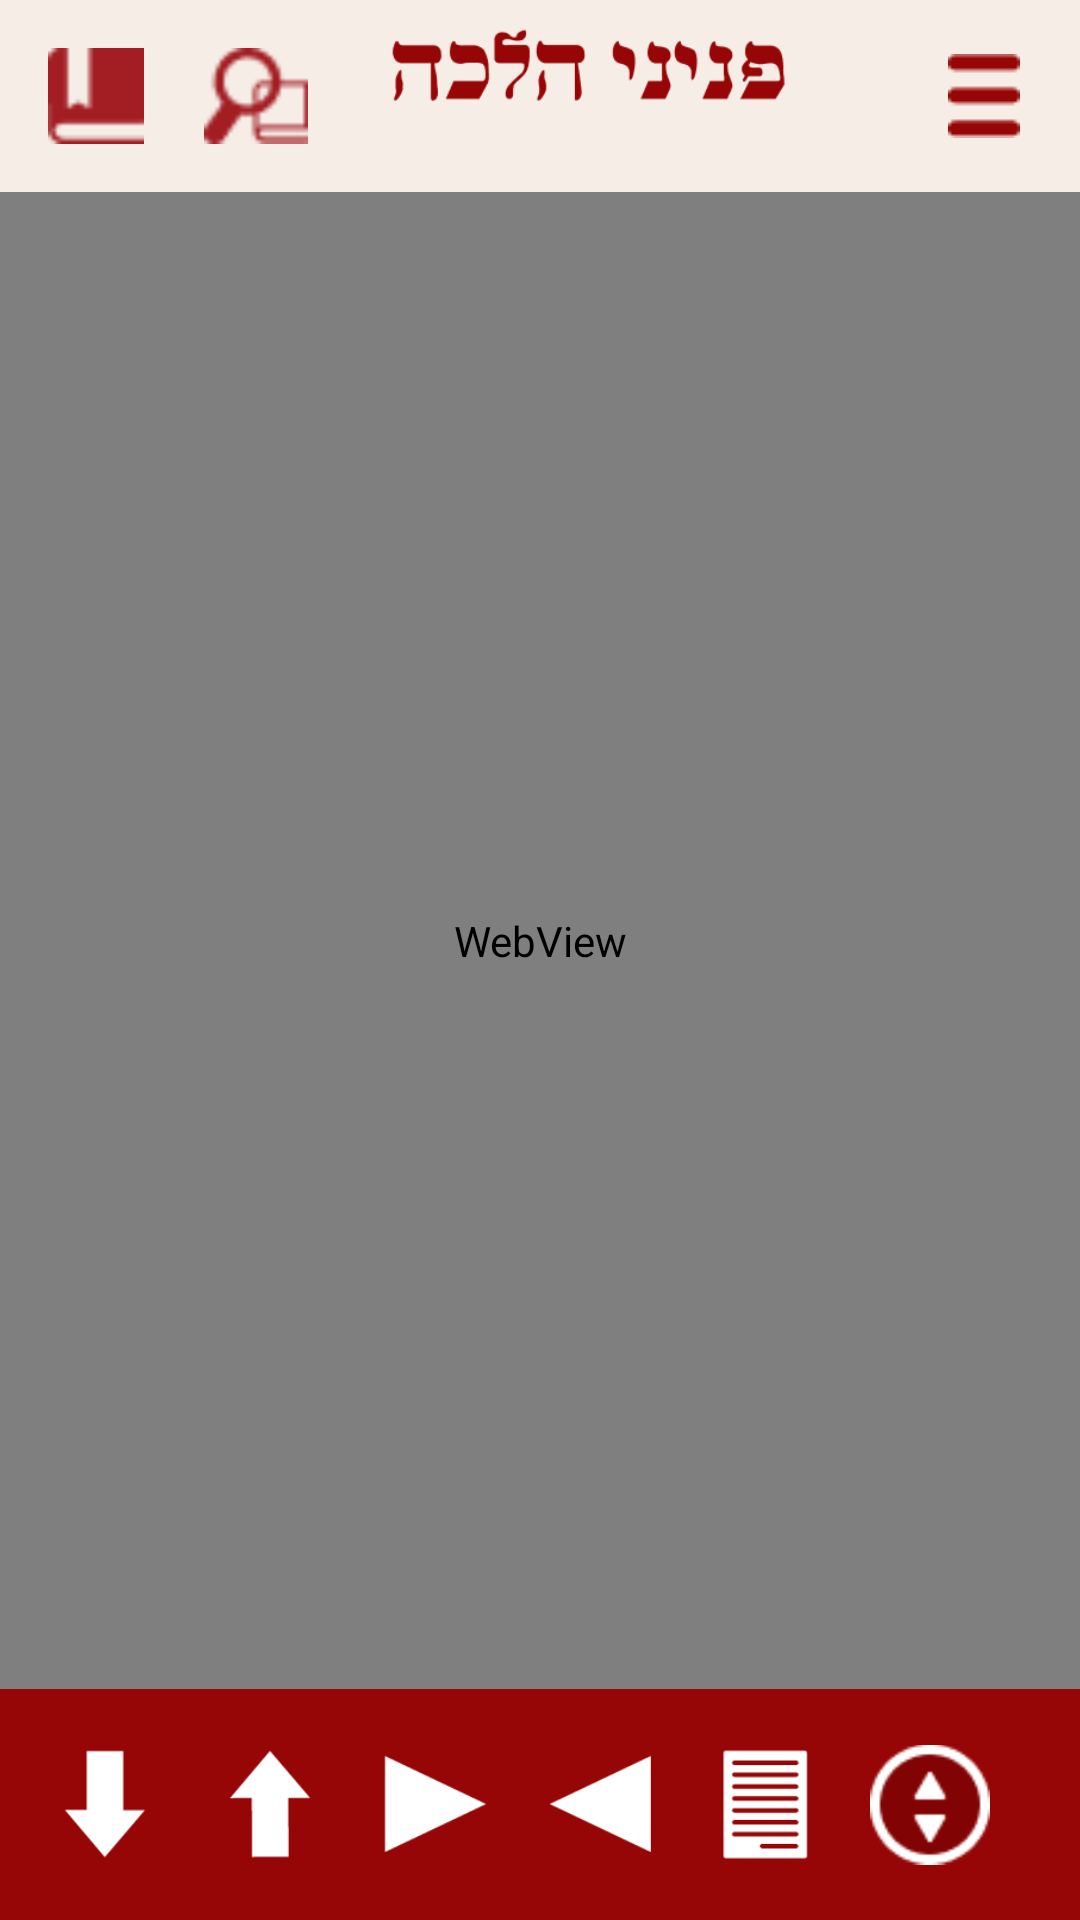

Icons on this 1080 x 1920 Android screen, each with the point to tap as [x,y]:
add bookmark: [96,96]
auto scroll: [930,1805]
config: [984,96]
down: [105,1803]
Next: [435,1804]
page search: [256,96]
Previous: [600,1804]
view as list: [765,1804]
